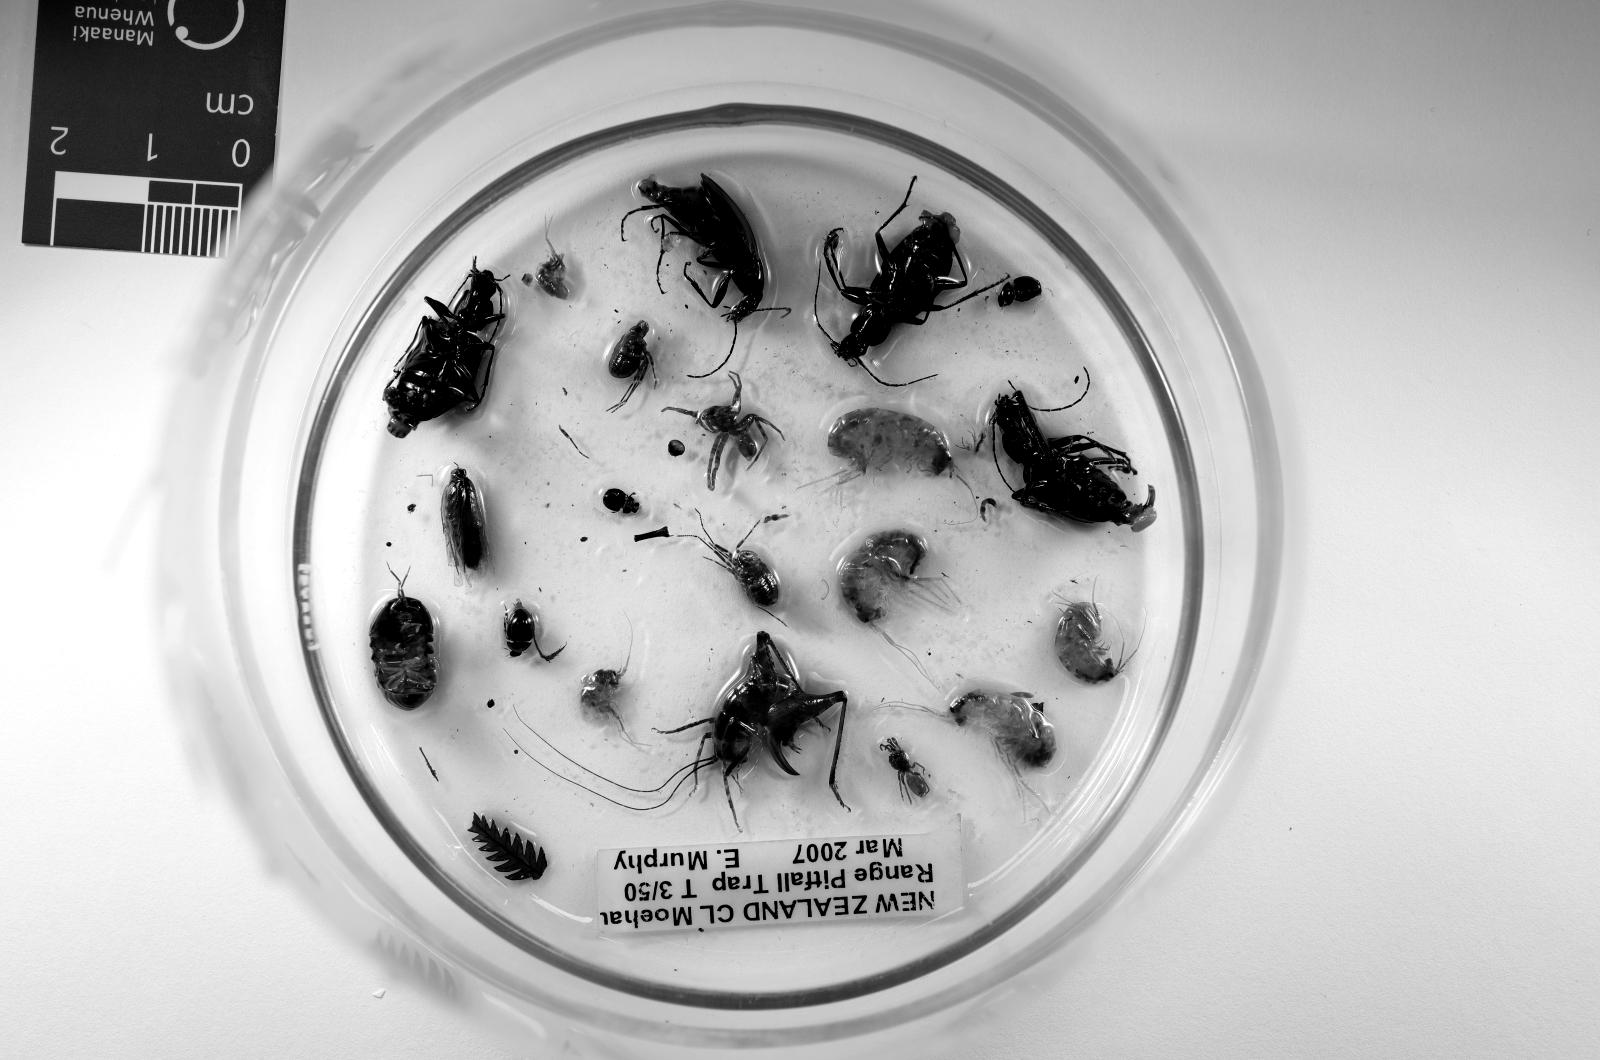amphipoda: (881, 689, 1056, 817), (838, 531, 956, 671), (828, 407, 956, 494), (1053, 602, 1119, 683), (581, 658, 634, 742), (538, 236, 569, 301)
araneae: (662, 373, 775, 491), (878, 736, 931, 801)
carabidae: (822, 183, 969, 388), (991, 391, 1156, 531), (619, 174, 766, 323), (384, 261, 503, 438)
coleoptera: (503, 599, 534, 655), (1000, 276, 1041, 307), (603, 488, 641, 516)
collembola: (957, 417, 989, 456)
isopoda: (369, 578, 438, 711)
opiliones: (697, 531, 778, 612), (606, 320, 653, 410)
orthoptera: (659, 630, 847, 823)
